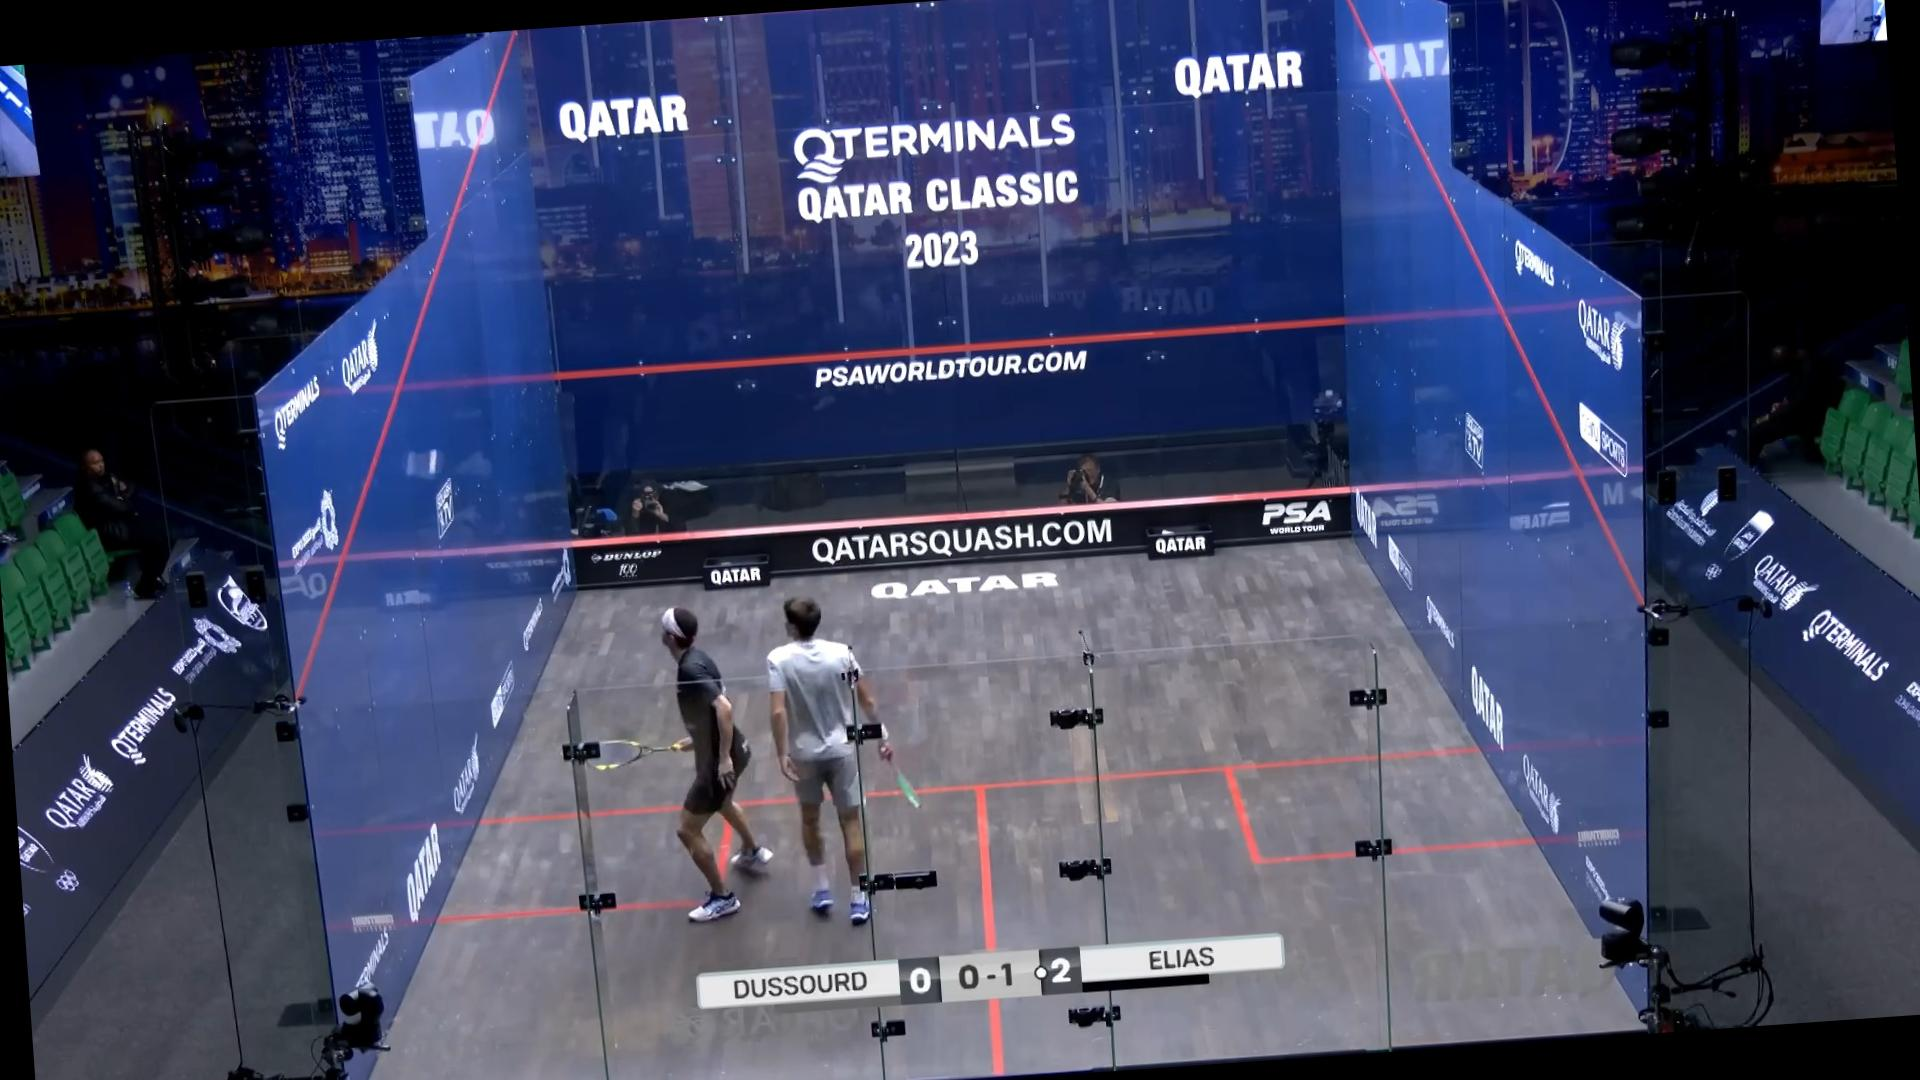Racket: (591, 723, 679, 785), (876, 761, 939, 815)
